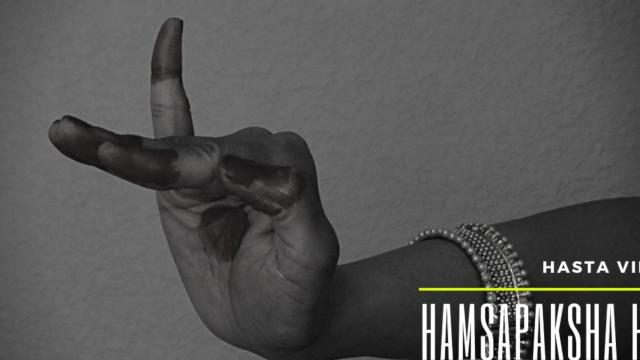Hamsapaksha: (44, 0, 370, 350)
